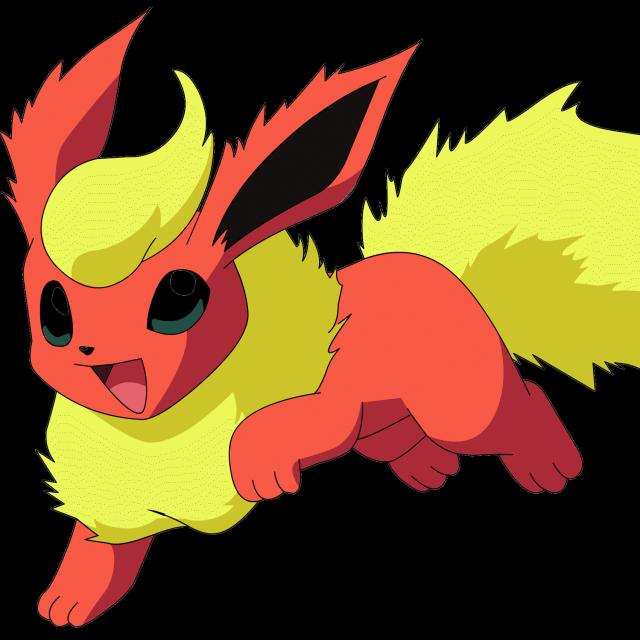Flareon: (14, 87, 558, 560)
